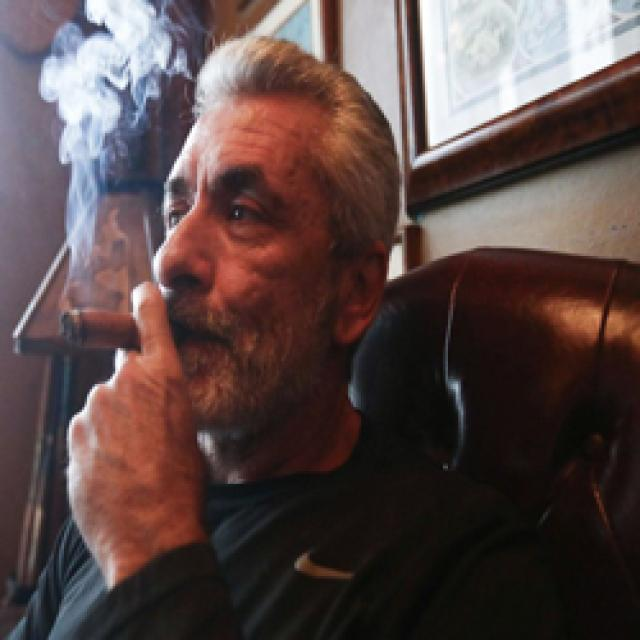Smooking: (63, 296, 139, 352)
